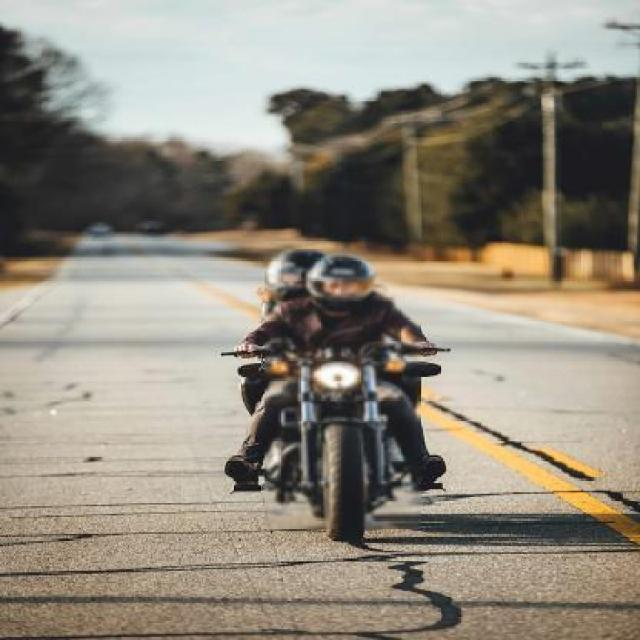helmet: (301, 245, 387, 315), (259, 238, 323, 303)
motorcycle: (185, 212, 458, 576)
